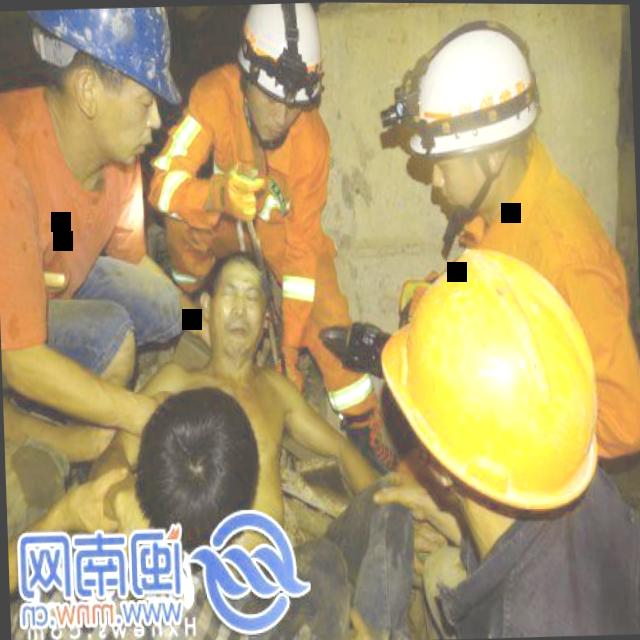Fall-Detected: (86, 222, 370, 635)
